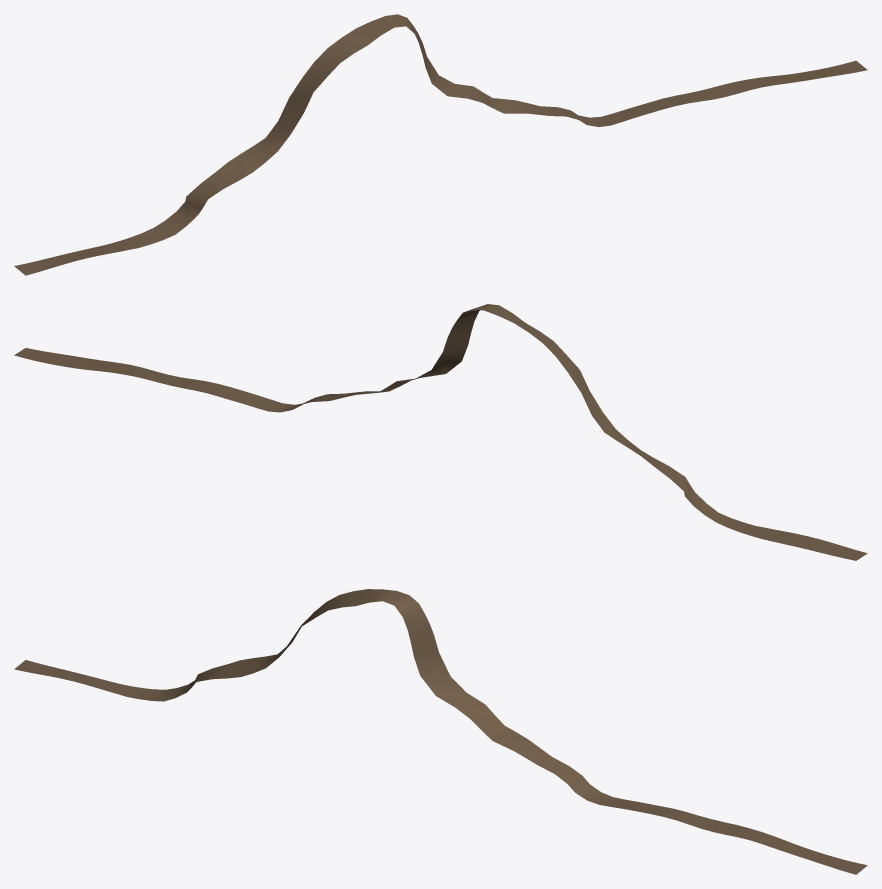
Rendered from desert_part4_way.fbx.
3 views of the same model, one above another, from view 1: azimuth 30°, elevation 25°; view 2: azimuth 150°, elevation 25°; view 3: azimuth 330°, elevation 25° (orthographic).
Parts seen in each view (by area): view 1: Grid.008; view 2: Grid.008; view 3: Grid.008.
Part boxes in pixels (bbox=[...]): Grid.008: bbox=[14, 14, 867, 275]; Grid.008: bbox=[14, 304, 867, 560]; Grid.008: bbox=[14, 589, 867, 874].
Size of the model in its own units: 5969 by 1088 by 144.
